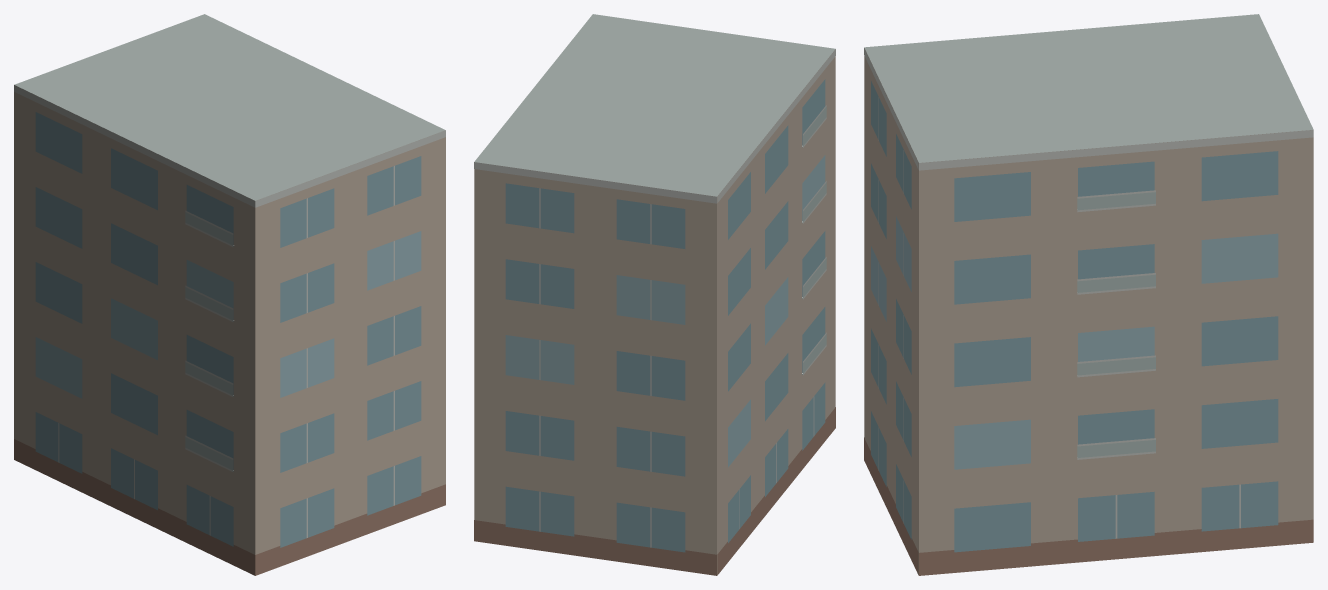
The model's file is survey-upis-32868190.glb.
3 renders of one model, left to right at view 1: azimuth 30°, elevation 25°; view 2: azimuth 150°, elevation 25°; view 3: azimuth 270°, elevation 25°, orthographic. The views are drawn at different scales.
Visible parts, largest first — view 1: survey-upis-32868190.tmp; view 2: survey-upis-32868190.tmp; view 3: survey-upis-32868190.tmp.
Part boxes in pixels (left/top/right/bottom): survey-upis-32868190.tmp: left=14, top=14, right=445, bottom=575; survey-upis-32868190.tmp: left=474, top=14, right=835, bottom=575; survey-upis-32868190.tmp: left=864, top=14, right=1313, bottom=575.
Bounding box in the file's own units: 10.23 × 13.2 × 13.04.
